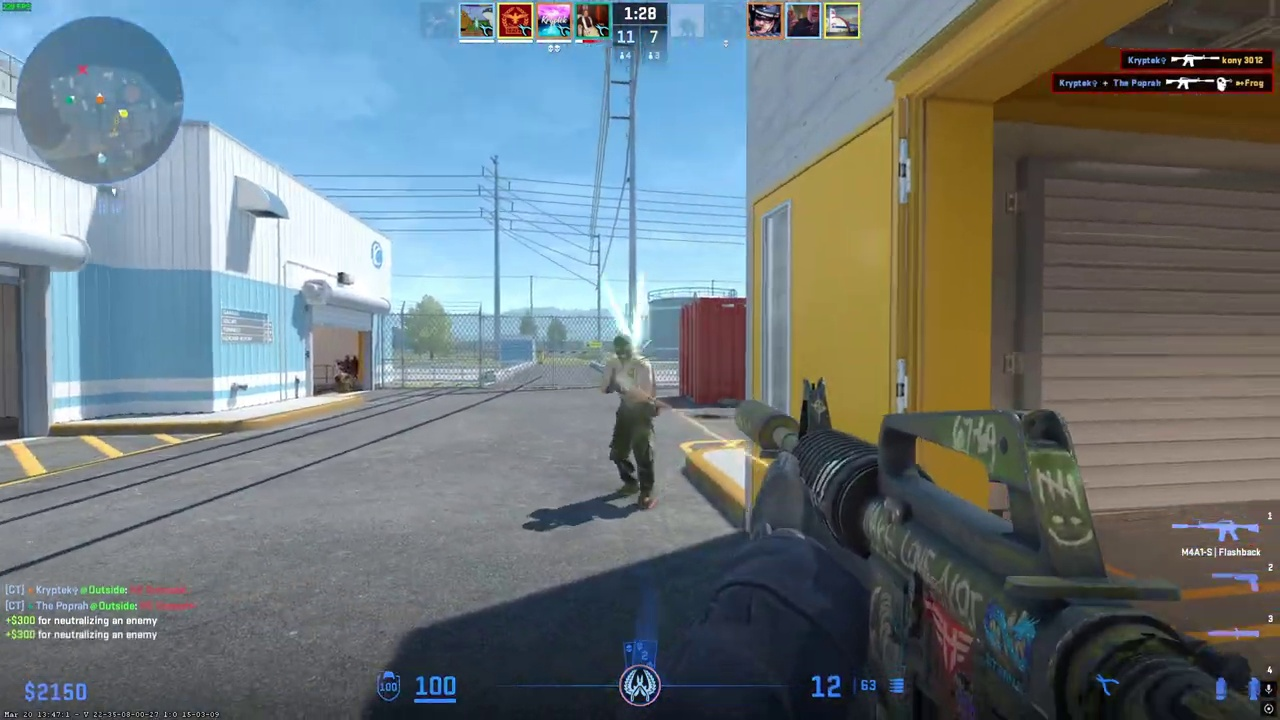Terrorist: (603, 335, 660, 507)
